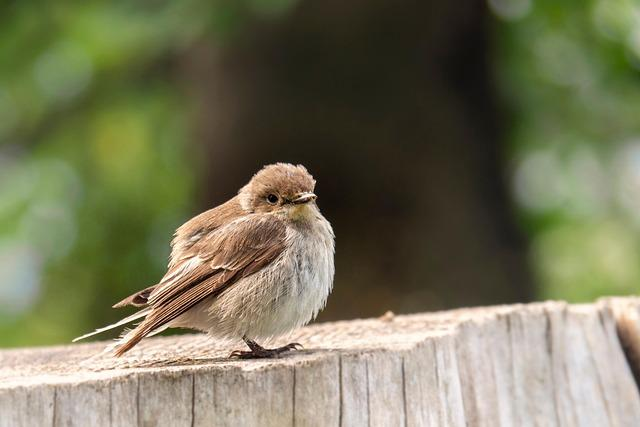Non_Gorille: (31, 11, 469, 427)
